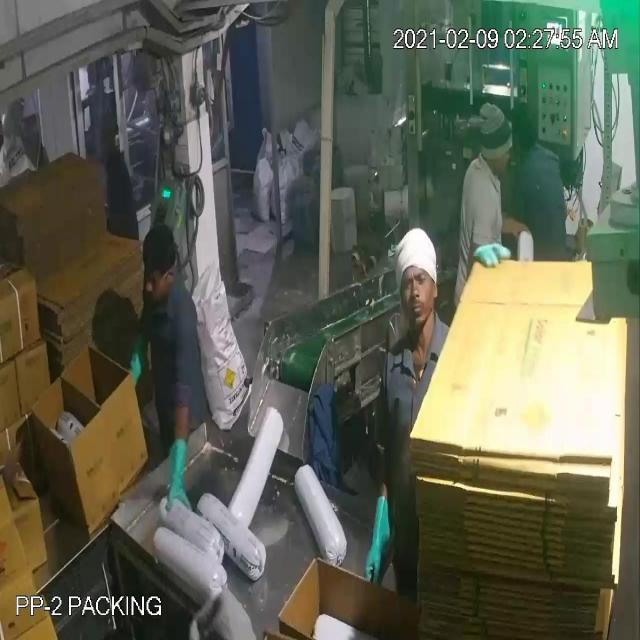Gloves: (32, 71, 379, 542)
